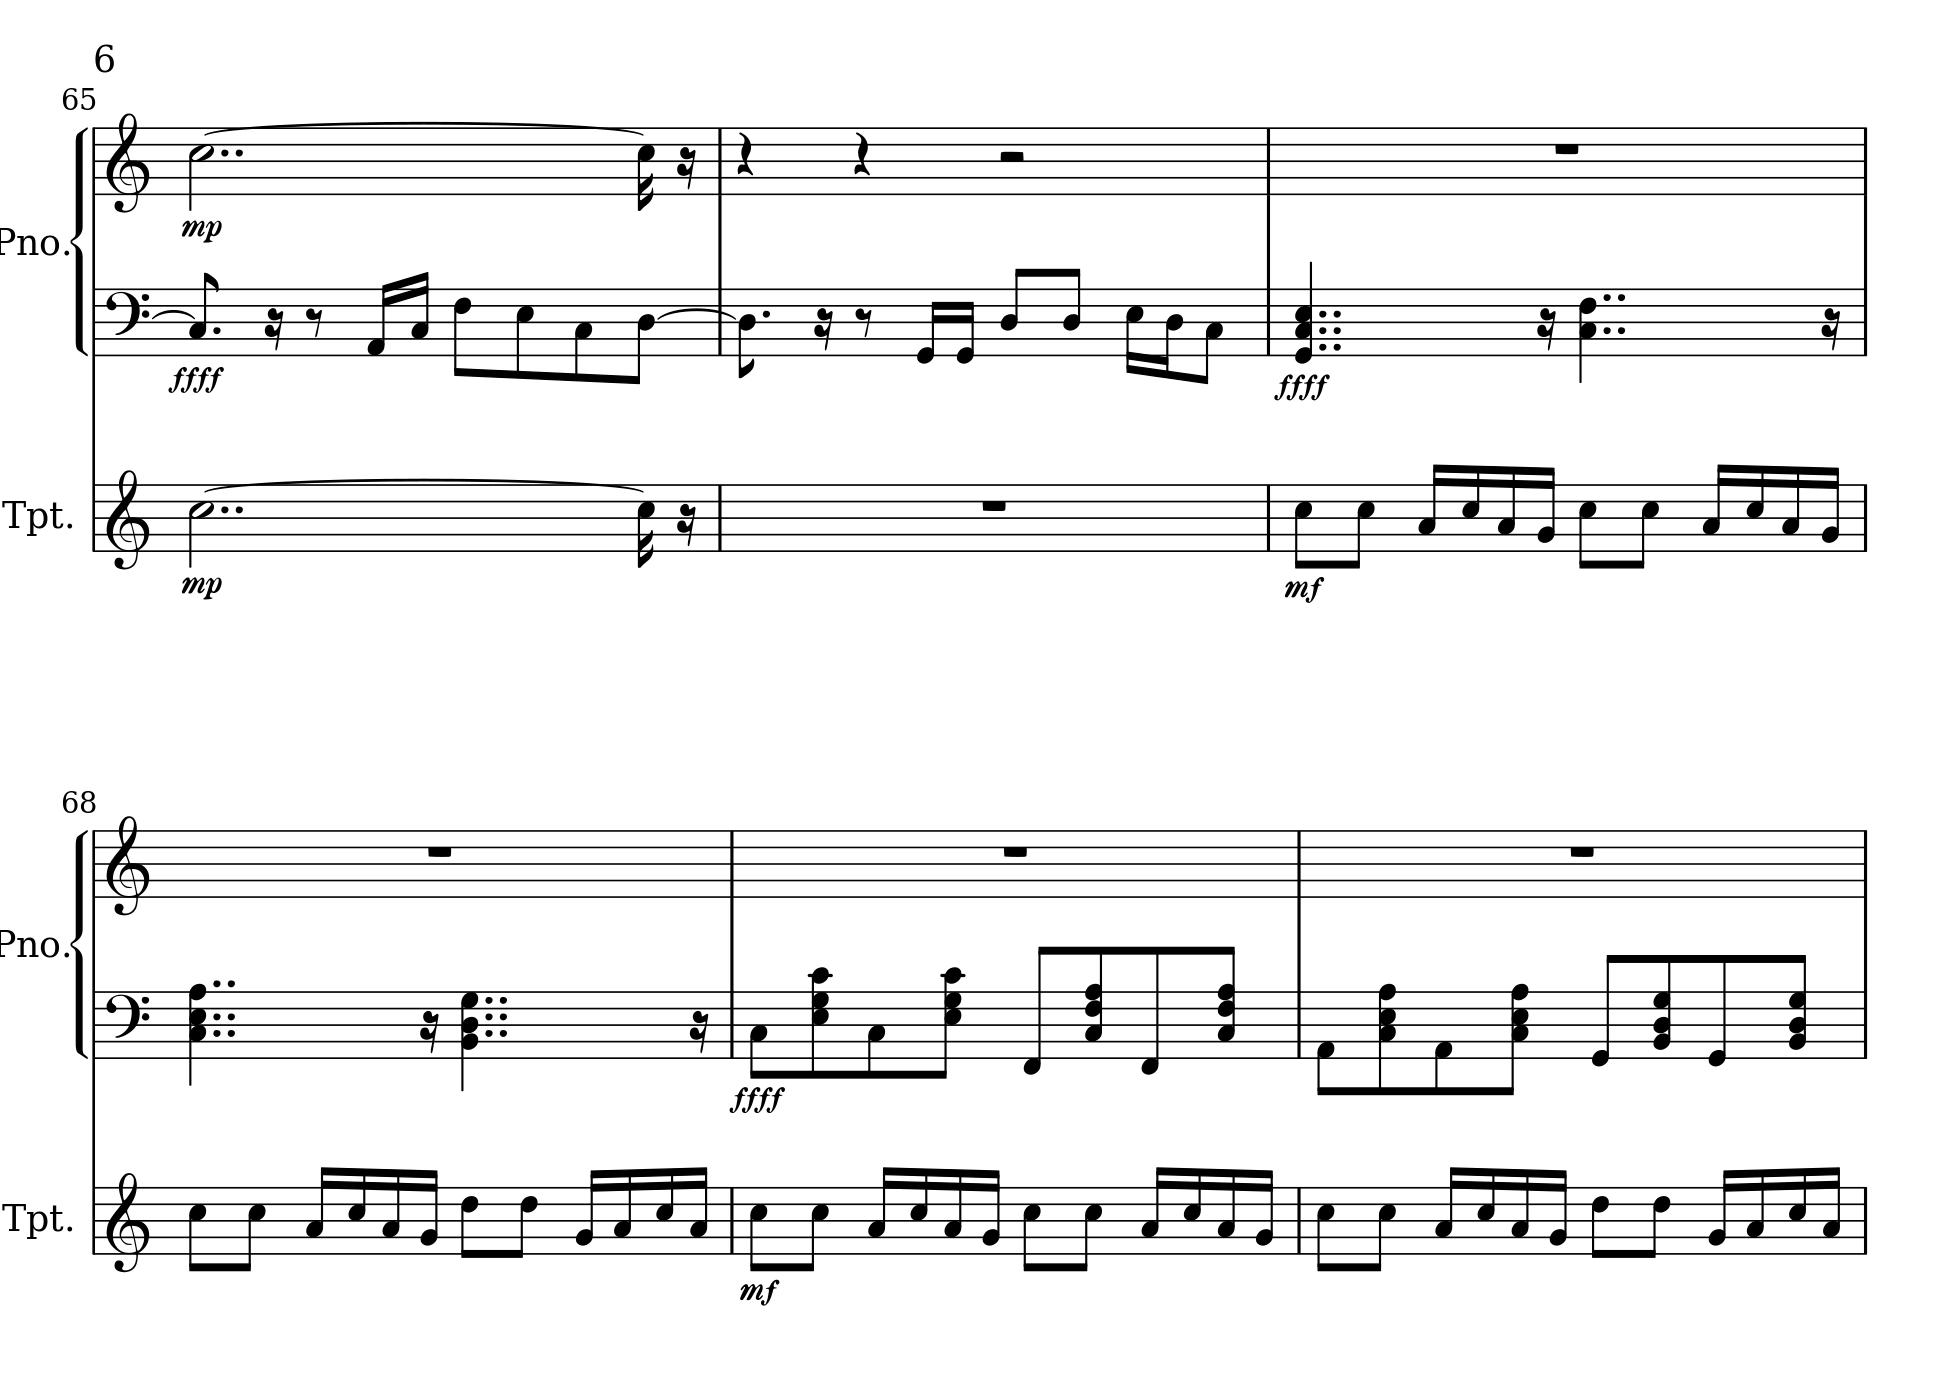16_0: (912, 286, 943, 364), (952, 286, 976, 364)
16_1: (363, 279, 394, 357)
16_2: (571, 1167, 601, 1255), (1705, 1167, 1735, 1255), (1819, 463, 1842, 553), (417, 1167, 439, 1255), (1536, 463, 1557, 553), (1254, 1165, 1275, 1255), (981, 1167, 1002, 1255), (1548, 1167, 1569, 1255)
16_3: (1416, 460, 1444, 552), (304, 1164, 333, 1255), (865, 1164, 894, 1255), (1432, 1164, 1461, 1255), (1701, 460, 1728, 552), (1140, 1164, 1167, 1255), (1779, 463, 1803, 553), (610, 1165, 634, 1255), (1495, 463, 1518, 553), (379, 1165, 402, 1255), (1509, 1165, 1531, 1255), (1744, 1165, 1767, 1255), (408, 268, 430, 357), (687, 1164, 708, 1255), (1821, 1164, 1842, 1255), (942, 1165, 963, 1255), (1215, 1165, 1236, 1255)
16_4: (1158, 286, 1185, 379)
16_5: (1744, 462, 1767, 552), (1786, 1165, 1809, 1255), (1123, 286, 1144, 376), (1461, 462, 1482, 552), (346, 1165, 367, 1255), (654, 1165, 675, 1255), (907, 1165, 928, 1255), (1182, 1165, 1203, 1255), (1476, 1165, 1497, 1255), (634, 124, 655, 213), (634, 481, 655, 568)
2_5: (186, 124, 214, 211), (186, 481, 214, 568)
4_3_6: (1578, 286, 1599, 382)
4_th: (184, 976, 211, 1084), (1293, 259, 1317, 364), (457, 988, 480, 1089)
5: (79, 85, 96, 112)
6: (94, 40, 115, 72), (61, 787, 79, 814), (61, 85, 79, 111)
8: (79, 787, 97, 814)
8_-1: (1017, 942, 1054, 1077), (1134, 943, 1162, 1075)
8_0: (1590, 951, 1623, 1068), (1705, 952, 1729, 1068)
8_1: (1314, 988, 1336, 1096), (1431, 988, 1453, 1096)
8_3: (186, 270, 219, 355), (1197, 285, 1224, 385), (571, 286, 594, 382), (864, 988, 886, 1080), (747, 988, 769, 1078)
8_4: (625, 286, 655, 387), (999, 265, 1029, 357), (735, 286, 756, 379), (1062, 265, 1083, 357)
8_5: (1074, 1183, 1104, 1273), (1368, 1183, 1398, 1273), (801, 1183, 829, 1273), (1347, 481, 1375, 570), (1632, 481, 1660, 570), (238, 1183, 265, 1273), (513, 286, 535, 379), (186, 1183, 207, 1273), (1021, 1183, 1042, 1273), (1314, 1183, 1335, 1273), (1576, 481, 1597, 570), (747, 1183, 768, 1272), (1293, 481, 1314, 568)
8_6: (508, 1183, 538, 1260), (1641, 1183, 1671, 1260), (451, 286, 472, 379), (457, 1183, 478, 1260), (1590, 1183, 1611, 1260)
8_th: (933, 964, 967, 1078), (804, 963, 835, 1080), (1503, 979, 1533, 1095), (1374, 979, 1401, 1095), (1788, 951, 1810, 1060), (1651, 955, 1674, 1062), (1084, 946, 1105, 1060), (1216, 943, 1236, 1062)
Brace: (70, 121, 90, 355), (70, 826, 88, 1056)
Double_dot: (217, 145, 244, 160), (210, 976, 237, 991), (483, 993, 510, 1008), (483, 1009, 511, 1023), (481, 1027, 510, 1041), (1602, 289, 1627, 304), (1602, 322, 1627, 337), (219, 502, 244, 517), (1317, 322, 1344, 336), (1318, 304, 1342, 319), (1318, 340, 1344, 354), (210, 1026, 238, 1038), (213, 1008, 237, 1021)
Fclef: (103, 285, 151, 357), (103, 988, 150, 1060)
Gclef: (103, 466, 150, 571), (103, 810, 150, 915), (103, 109, 150, 213), (103, 1168, 148, 1273)
Pno: (1, 222, 60, 258), (1, 925, 58, 960)
Rests1: (1551, 138, 1584, 157), (999, 841, 1032, 861), (978, 496, 1011, 514), (423, 841, 456, 859), (1566, 841, 1599, 859)
Rests16: (262, 304, 286, 351), (675, 501, 697, 547), (687, 1008, 709, 1054), (675, 145, 697, 190), (811, 306, 834, 351), (1536, 306, 1557, 352), (1821, 304, 1842, 351), (418, 1009, 439, 1054)
Rests2: (996, 148, 1027, 165)
Rests4: (733, 130, 754, 177), (850, 130, 871, 177)
Rests8: (301, 304, 325, 339), (853, 304, 874, 337)
Single_barline: (1290, 829, 1311, 897), (721, 829, 742, 895), (1854, 991, 1875, 1057), (1855, 829, 1875, 897), (721, 1186, 741, 1254), (1290, 991, 1309, 1057), (1290, 1186, 1309, 1252), (1260, 127, 1278, 193), (1260, 288, 1278, 354), (1260, 484, 1278, 550), (723, 991, 741, 1057), (1857, 483, 1873, 552), (1857, 1186, 1873, 1254), (1857, 127, 1873, 193), (712, 288, 729, 354), (1857, 288, 1873, 354), (87, 127, 102, 195), (87, 1186, 102, 1254), (712, 127, 727, 193), (712, 484, 727, 550), (88, 829, 103, 895), (88, 288, 102, 355), (87, 483, 100, 550), (88, 991, 102, 1056)
Slur: (655, 307, 741, 321), (151, 307, 196, 319)
Tpt: (1, 492, 66, 538), (1, 1194, 64, 1240)
dot: (759, 307, 772, 319), (210, 322, 222, 336)
ffff: (1270, 370, 1332, 406), (165, 361, 225, 397), (726, 1083, 787, 1117)
mf: (736, 1276, 780, 1309), (1281, 574, 1326, 606)
mp: (178, 216, 223, 244), (178, 573, 223, 601)
